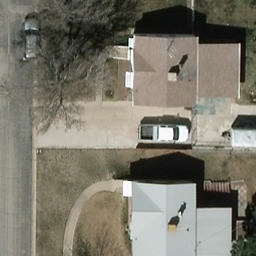car: (20, 19, 43, 64)
pickup: (132, 124, 188, 140)
